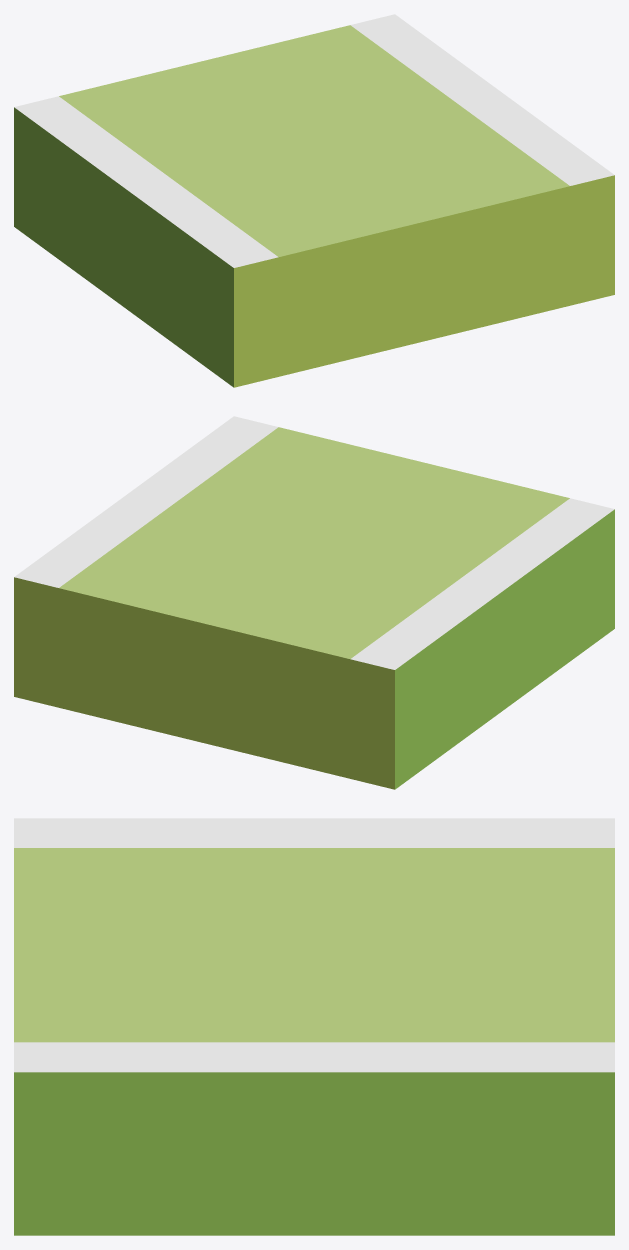
The model's file is floor_green2.fbx.
The picture shows the model from 3 angles, top to bottom: view 1: azimuth 30°, elevation 25°; view 2: azimuth 150°, elevation 25°; view 3: azimuth 270°, elevation 25°; orthographic projection. The views are drawn at different scales.
Parts seen in each view (by area): view 1: floor_green2; view 2: floor_green2; view 3: floor_green2.
Boxes of the visible parts, x1,y1,x2,y2 form: floor_green2: [14, 14, 614, 387]; floor_green2: [14, 416, 614, 789]; floor_green2: [14, 818, 614, 1235].
Size of the model in its own units: 100 by 30 by 100.
